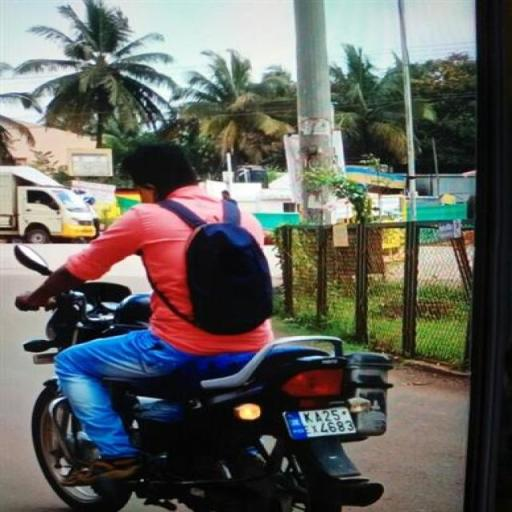using mobile: (129, 181, 166, 204)
